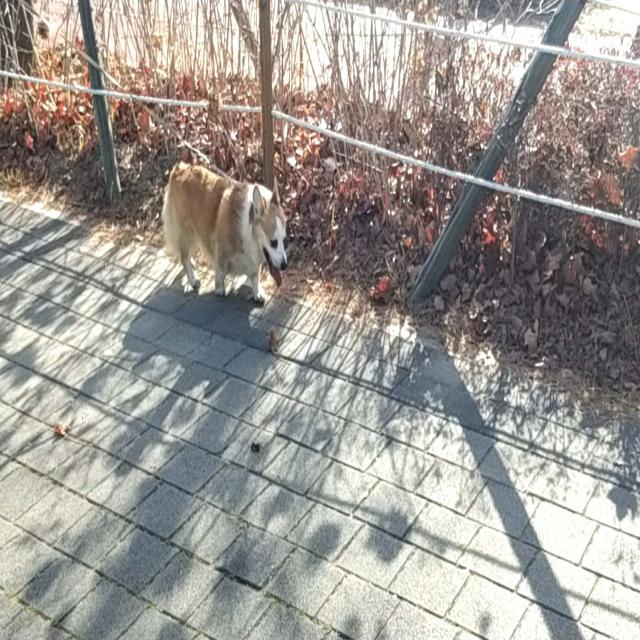Dog: (161, 158, 286, 306)
